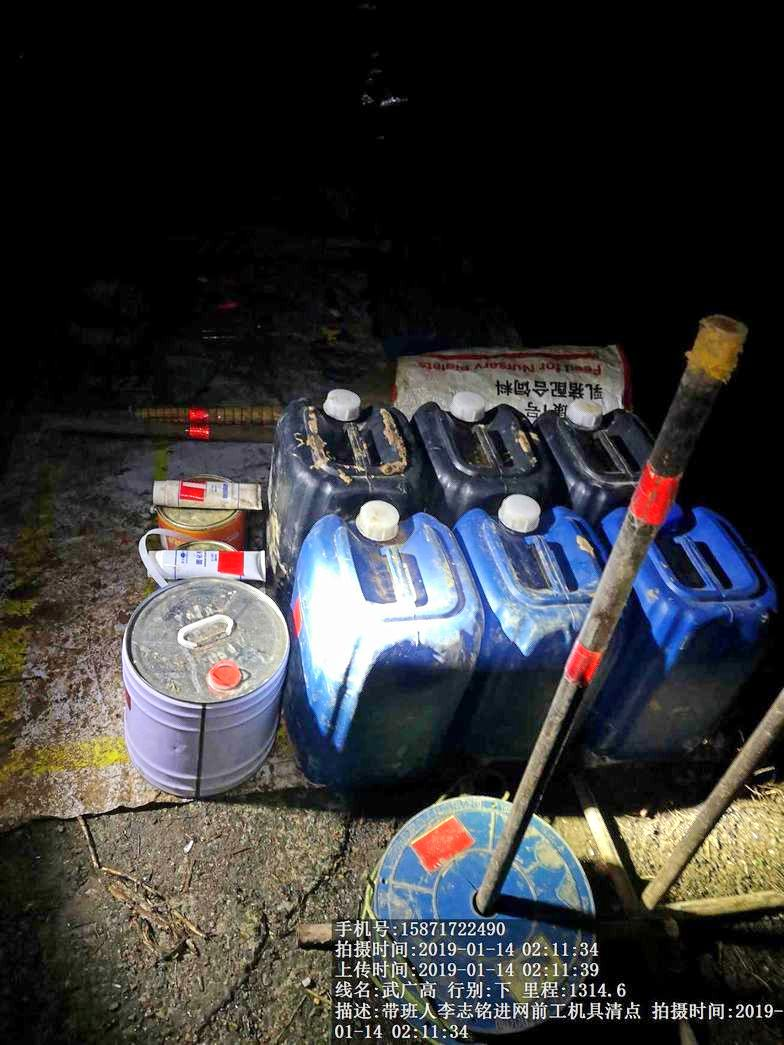SNT: (300, 512, 476, 777), (460, 501, 603, 670), (267, 386, 413, 510), (396, 385, 548, 499), (542, 387, 663, 487)
